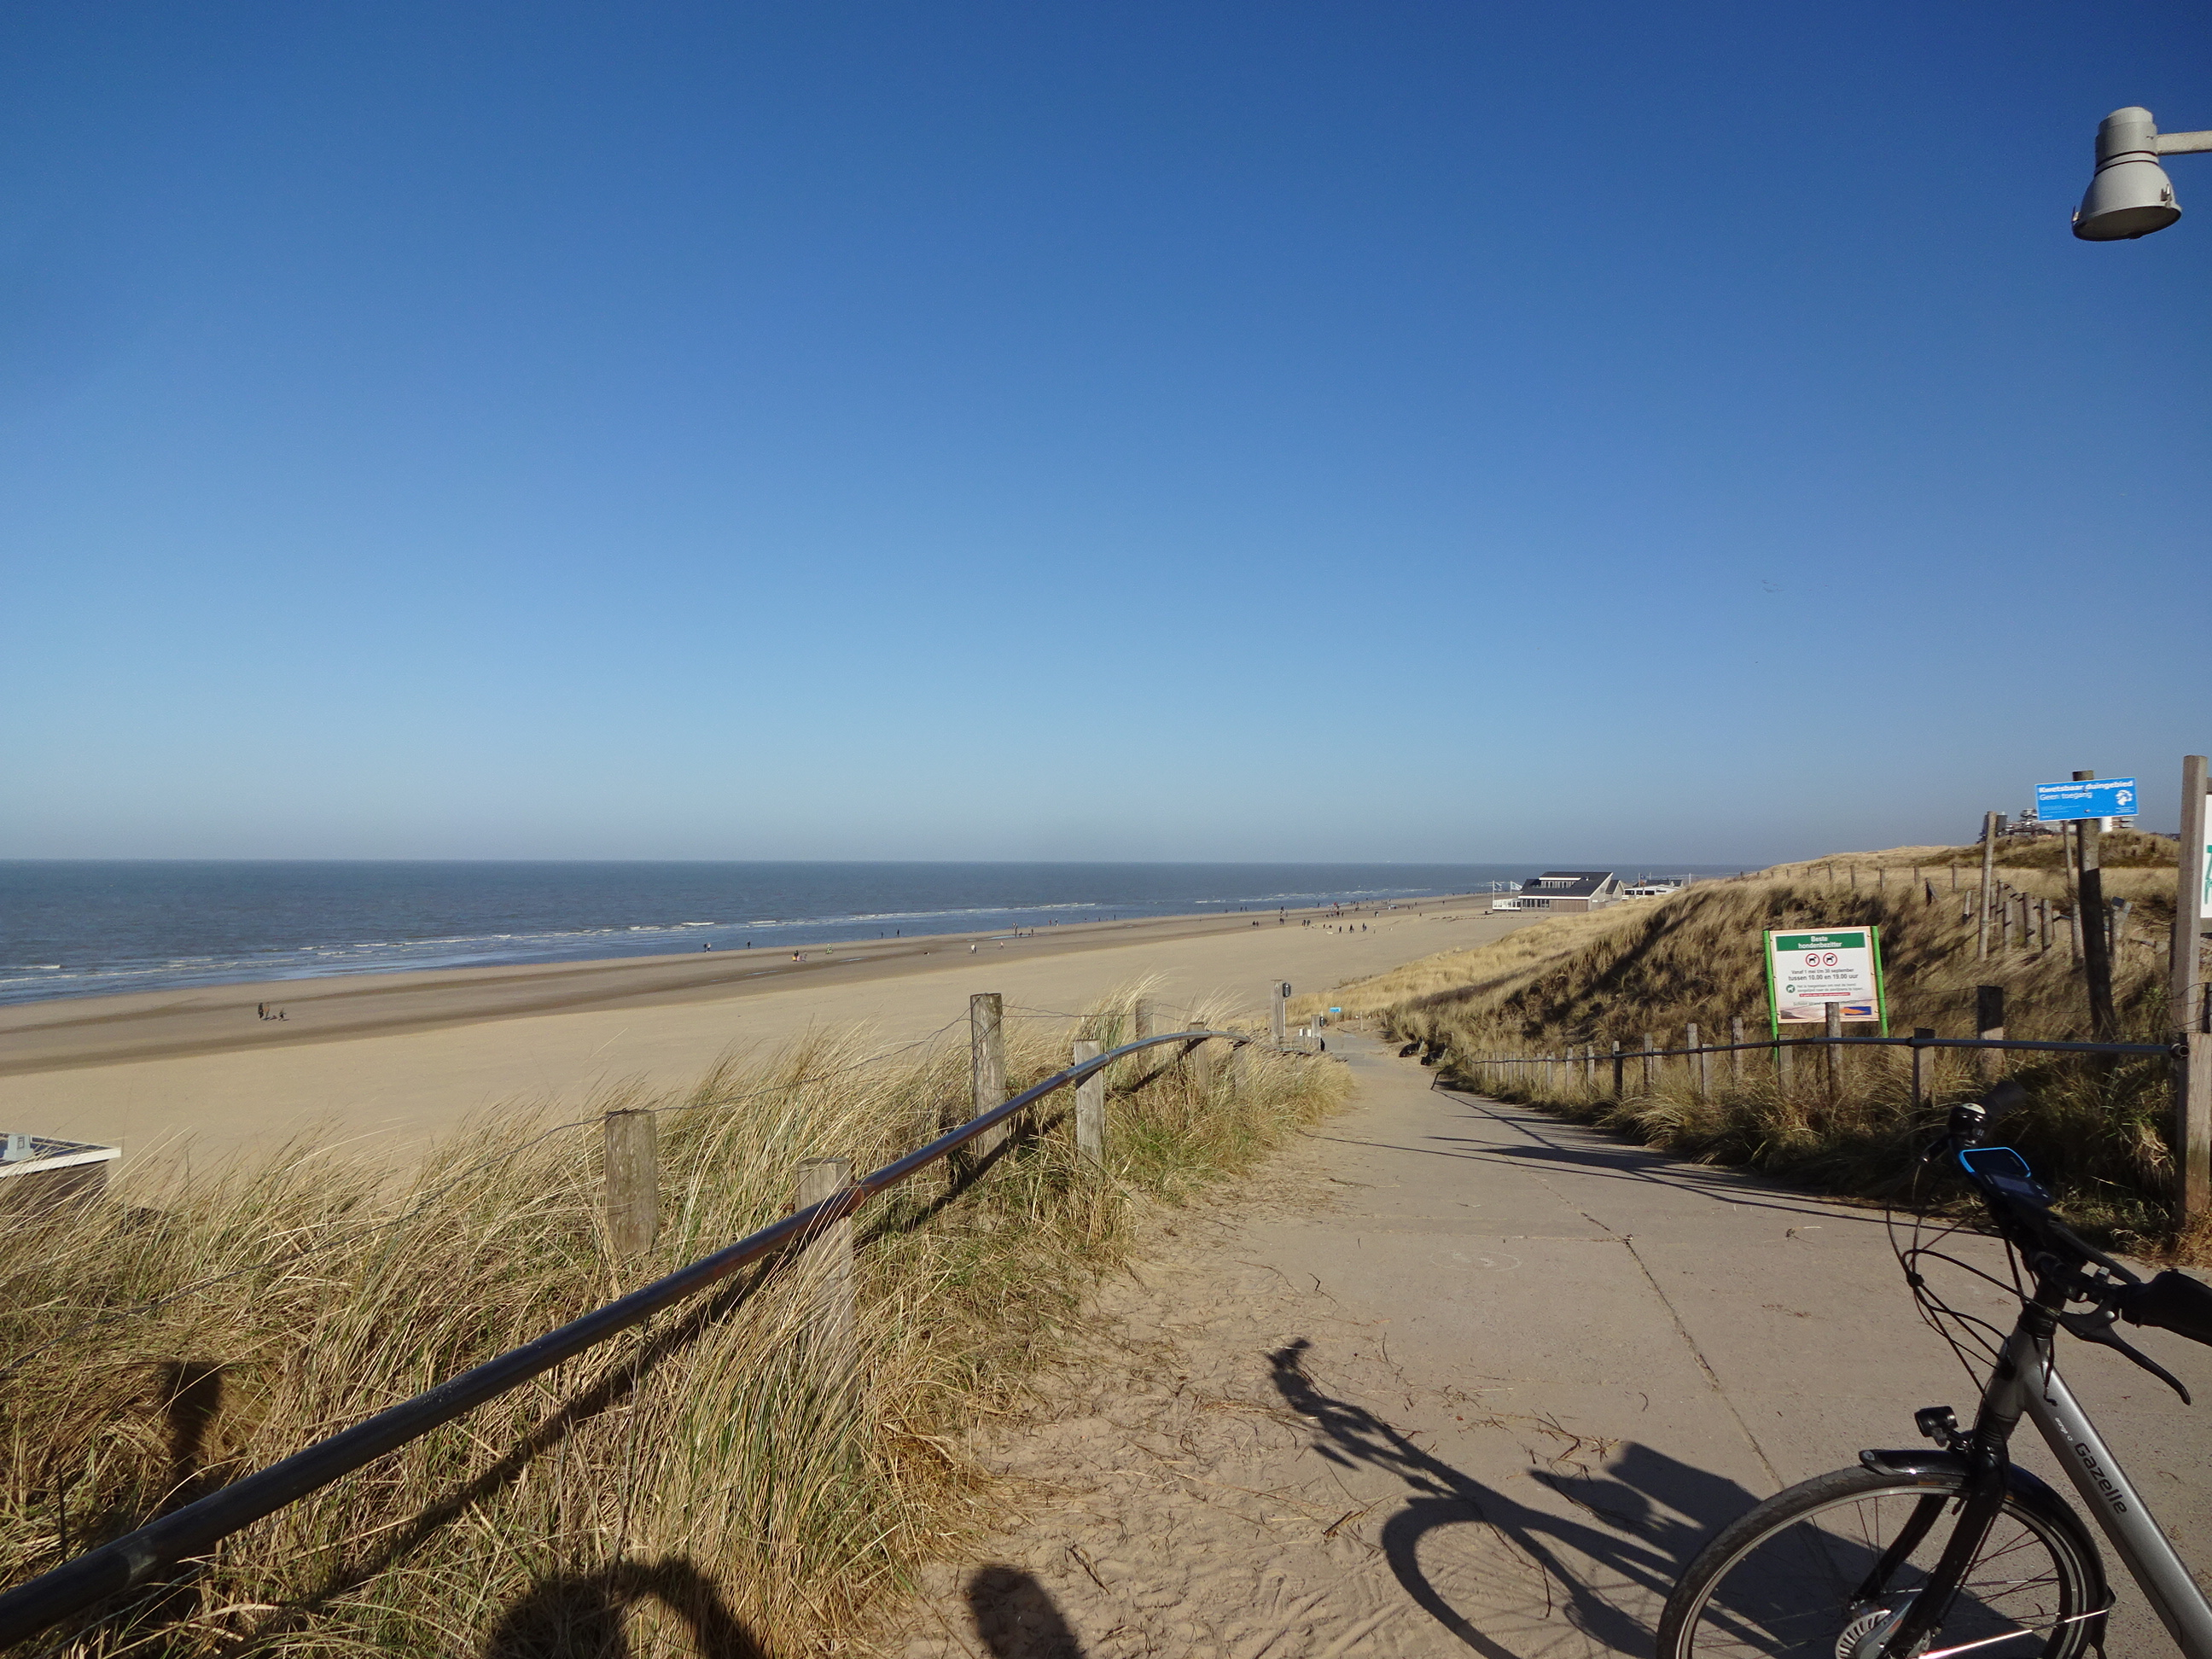strandtent: (1486, 854, 1655, 927)
